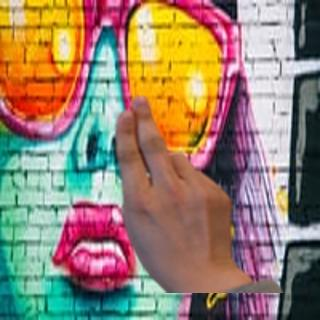DHAVE: (104, 92, 236, 281)
